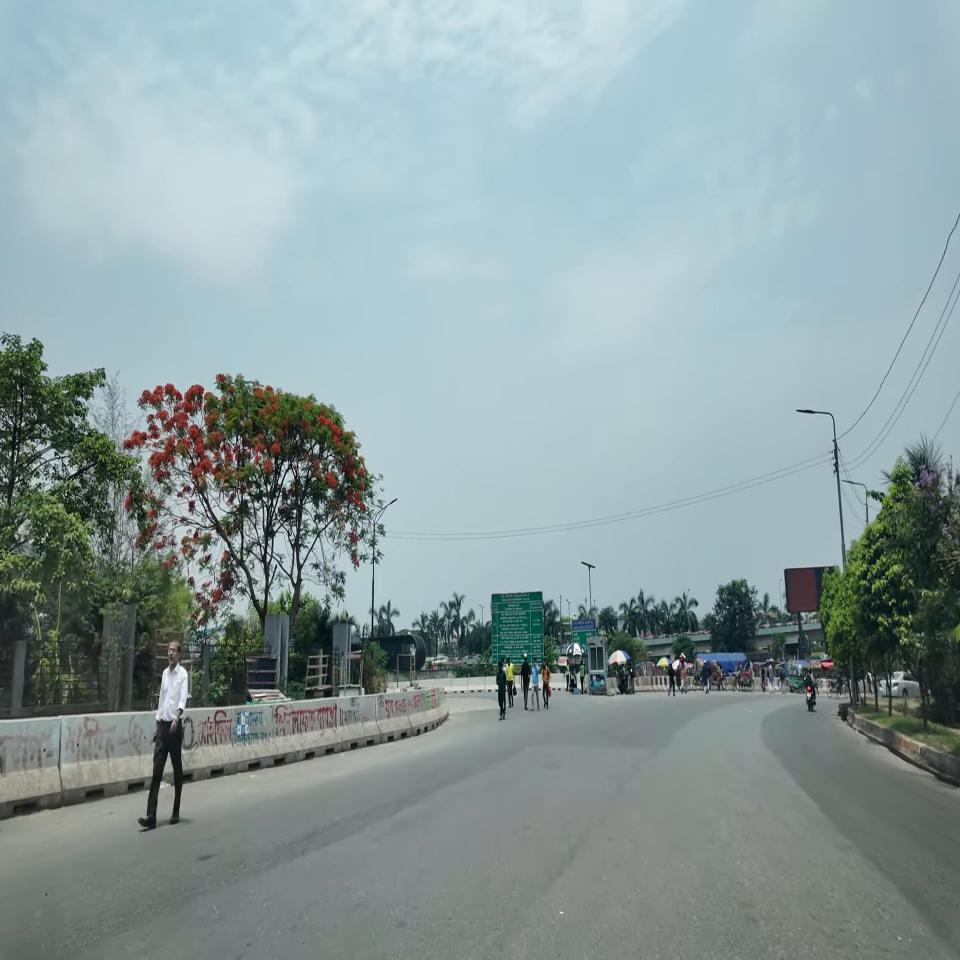person: (530, 658, 541, 710), (521, 654, 531, 710), (540, 660, 550, 710)
